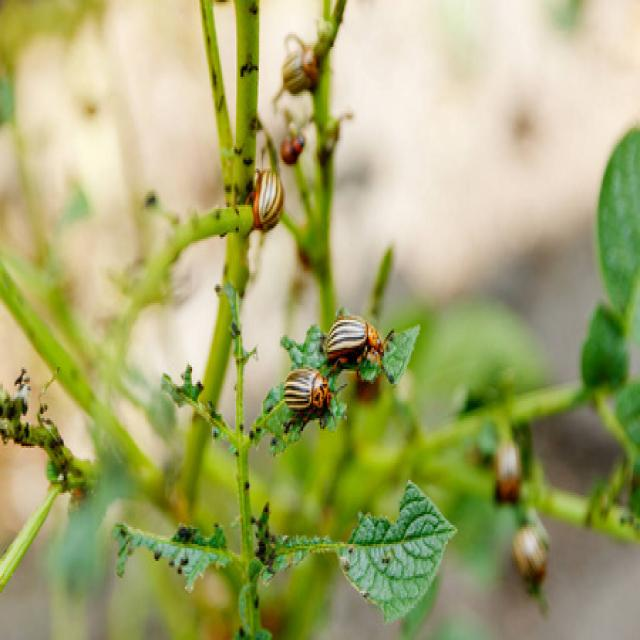ShuCaiHuaBanChong-Grown-: (264, 370, 348, 420), (245, 166, 298, 238), (330, 304, 386, 368)
